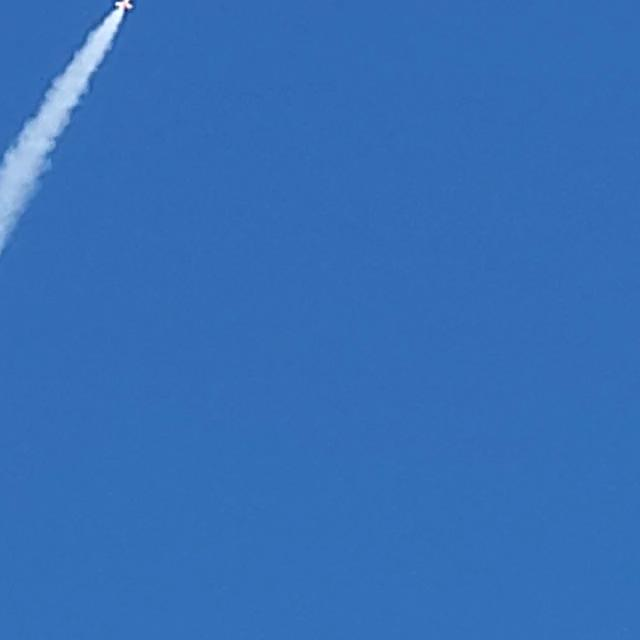rocket: (109, 0, 135, 16)
